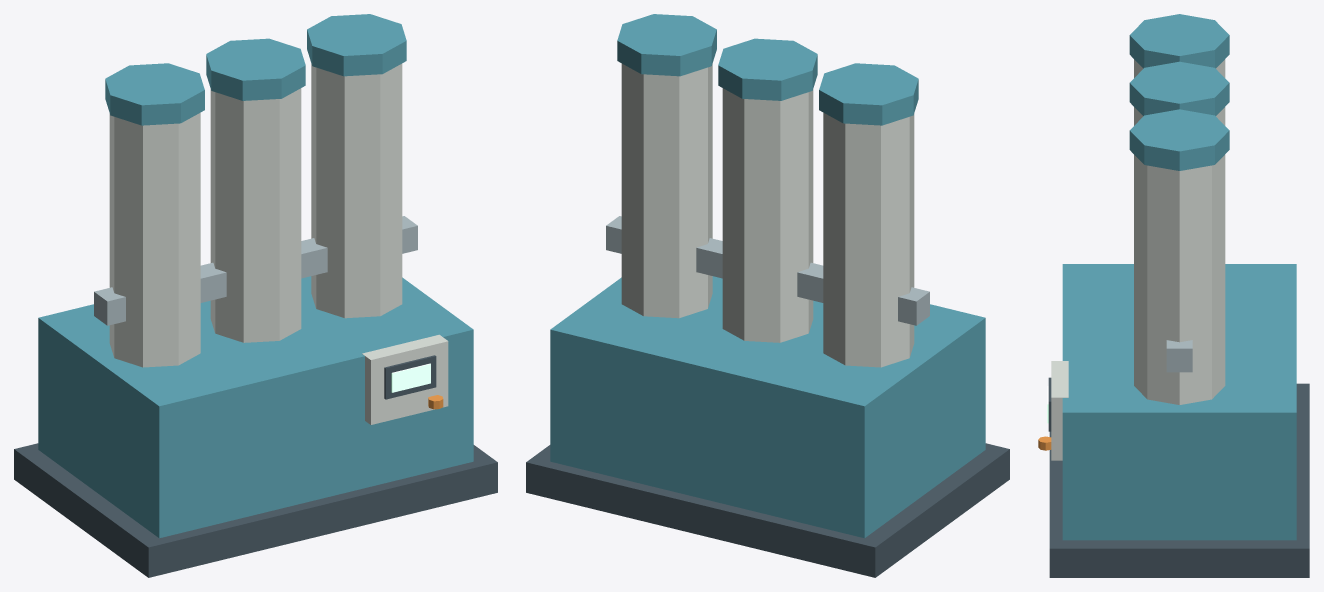
Rendered from industrial-filter-bank.glb.
3 renders of one model, left to right at view 1: azimuth 30°, elevation 25°; view 2: azimuth 150°, elevation 25°; view 3: azimuth 270°, elevation 25°, orthographic. The views are drawn at different scales.
Parts seen in each view (by area): view 1: blue, cream, dark, steel, light; view 2: blue, cream, dark, steel; view 3: blue, cream, dark, steel.
Part boxes in pixels (left/top/right/bottom): blue: left=38, top=14, right=473, bottom=538; cream: left=109, top=63, right=448, bottom=424; dark: left=14, top=355, right=497, bottom=577; steel: left=94, top=216, right=417, bottom=325; light: left=391, top=363, right=430, bottom=392; blue: left=550, top=14, right=985, bottom=538; cream: left=621, top=63, right=914, bottom=367; dark: left=526, top=443, right=1009, bottom=577; steel: left=606, top=216, right=929, bottom=325; blue: left=1062, top=14, right=1296, bottom=540; cream: left=1051, top=59, right=1225, bottom=460; dark: left=1048, top=377, right=1309, bottom=577; steel: left=1166, top=340, right=1192, bottom=372.
Size of the model in its own units: 1.8 by 2.1 by 1.25.
